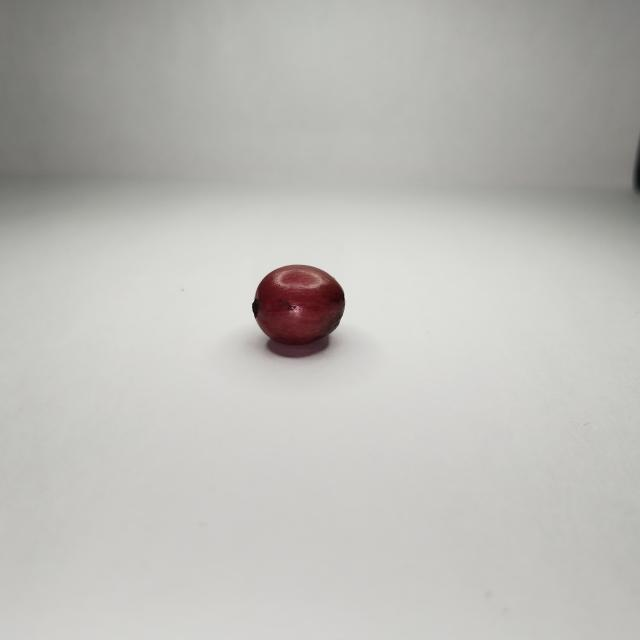Sano: (252, 265, 345, 347)
